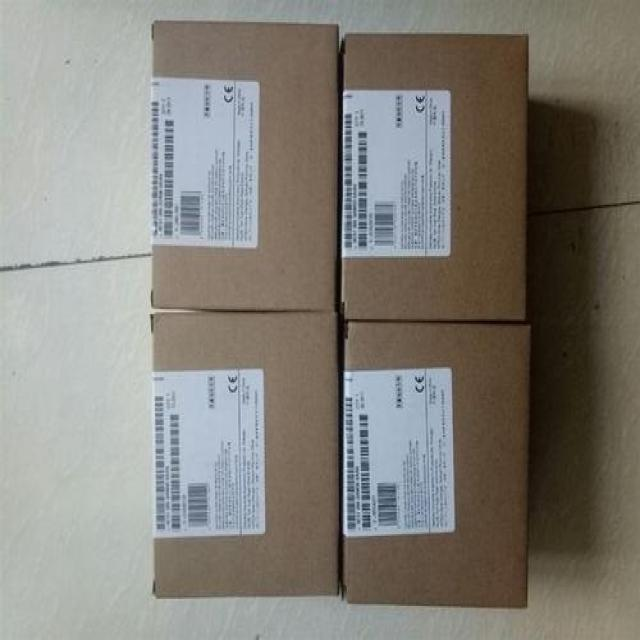box: (341, 321, 531, 607), (151, 24, 340, 311), (342, 36, 528, 325), (152, 313, 339, 599)
